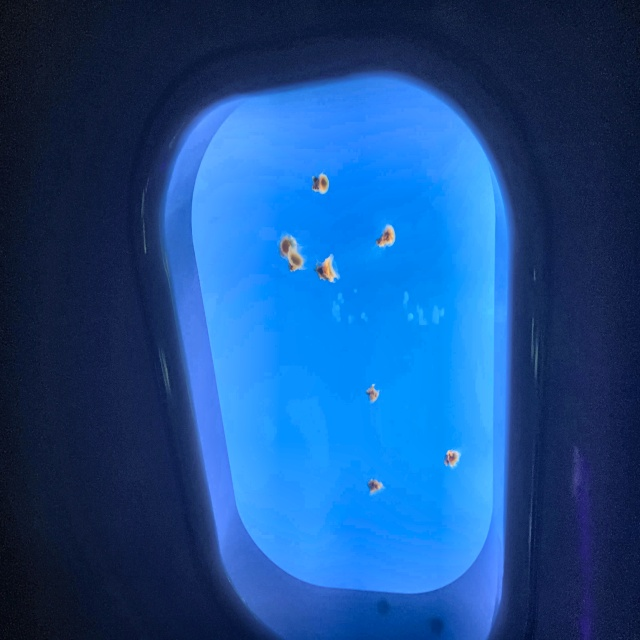jellyfish: (313, 252, 340, 283), (277, 233, 298, 260), (287, 244, 306, 273), (375, 223, 396, 248), (311, 172, 331, 195), (443, 448, 460, 469), (367, 476, 384, 495), (365, 382, 380, 403)
